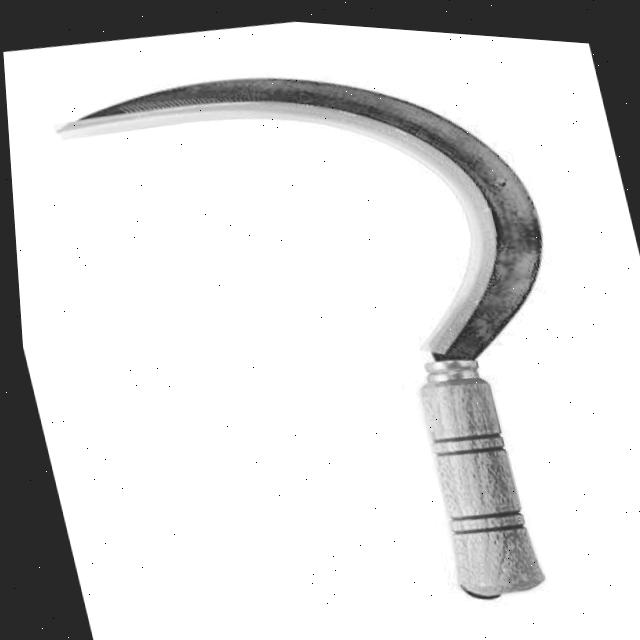celurit: (27, 10, 640, 640)
